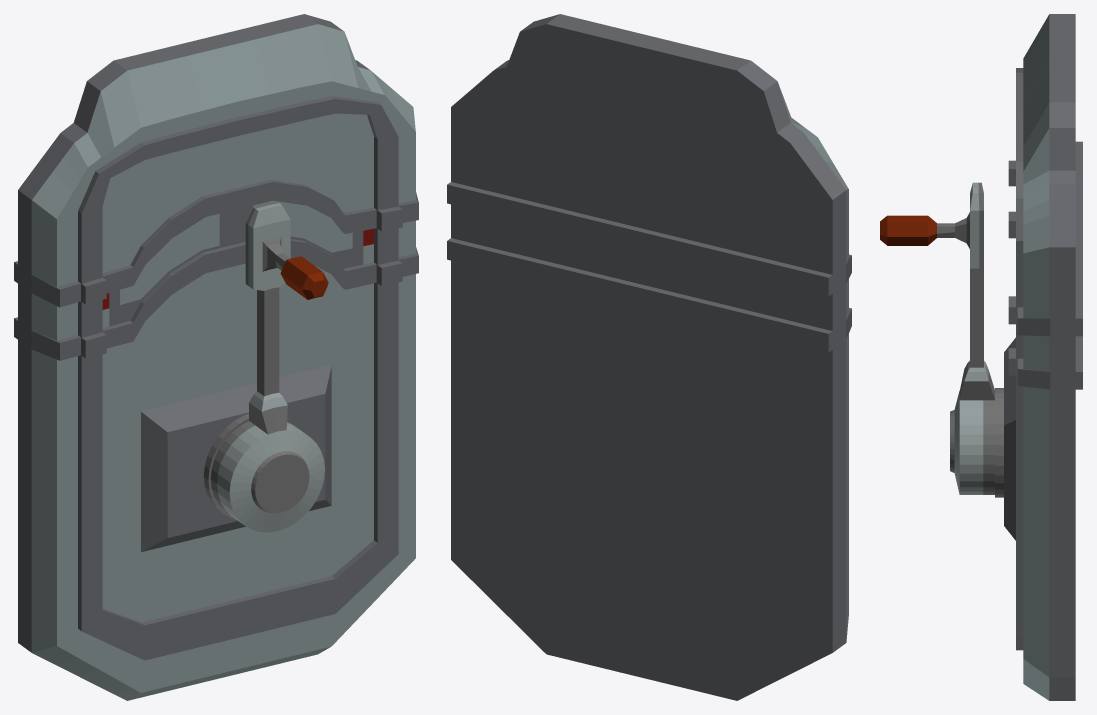
Rendered from newLever.fbx.
The picture shows the model from 3 angles, left to right: view 1: azimuth 30°, elevation 25°; view 2: azimuth 150°, elevation 25°; view 3: azimuth 270°, elevation 25°; orthographic projection. The views are drawn at different scales.
Parts seen in each view (by area): view 1: Cube, Cylinder; view 2: Cube; view 3: Cube, Cylinder.
Boxes of the visible parts, left/top/right/bottom form: Cube: left=14, top=14, right=418, bottom=700; Cylinder: left=203, top=202, right=328, bottom=532; Cube: left=447, top=14, right=851, bottom=700; Cube: left=1004, top=14, right=1082, bottom=700; Cylinder: left=880, top=182, right=1003, bottom=497.
Bounding box in the file's own units: 800 × 1263 × 388.
